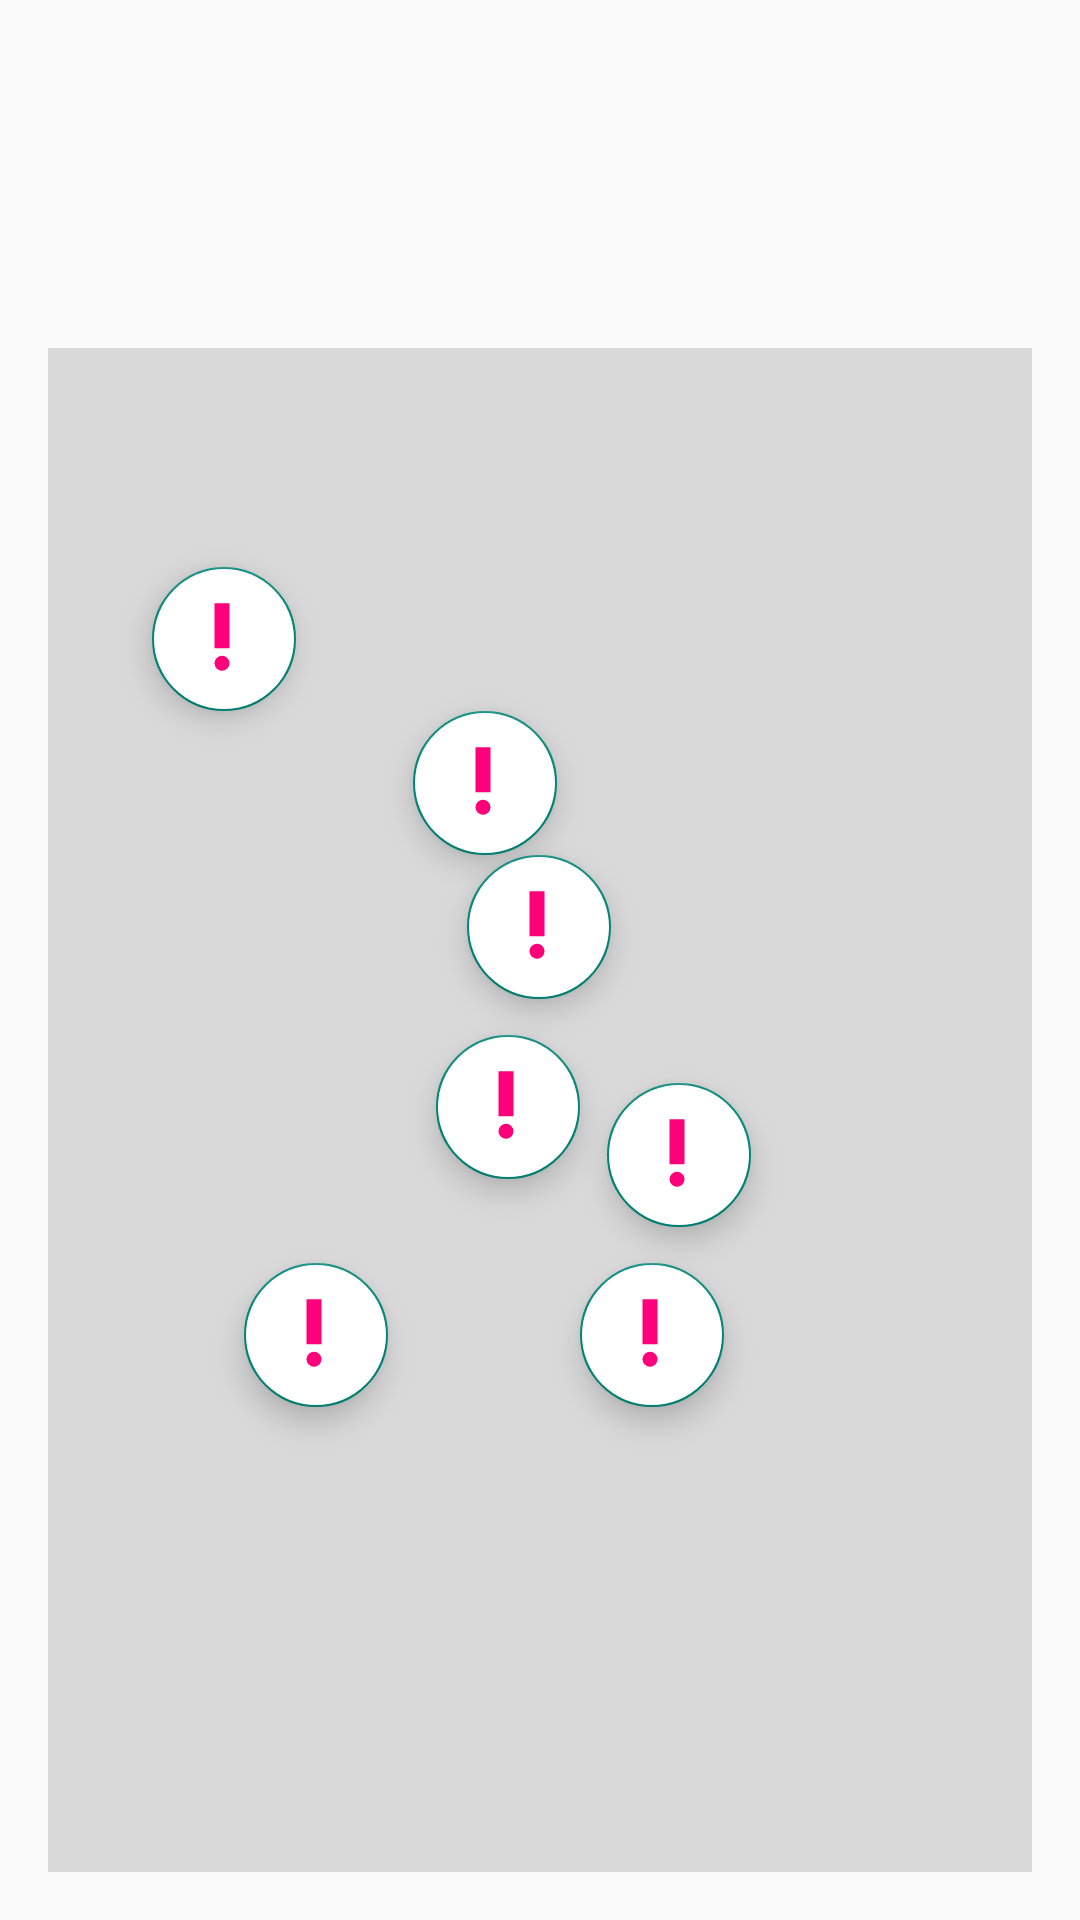

Named icons in this screenshot (1080px×1920px) and their centers, (x=x, y=y):
exclamation rose: (x=224, y=639), (x=485, y=783), (x=539, y=927), (x=508, y=1107), (x=679, y=1155), (x=316, y=1335), (x=652, y=1335)
